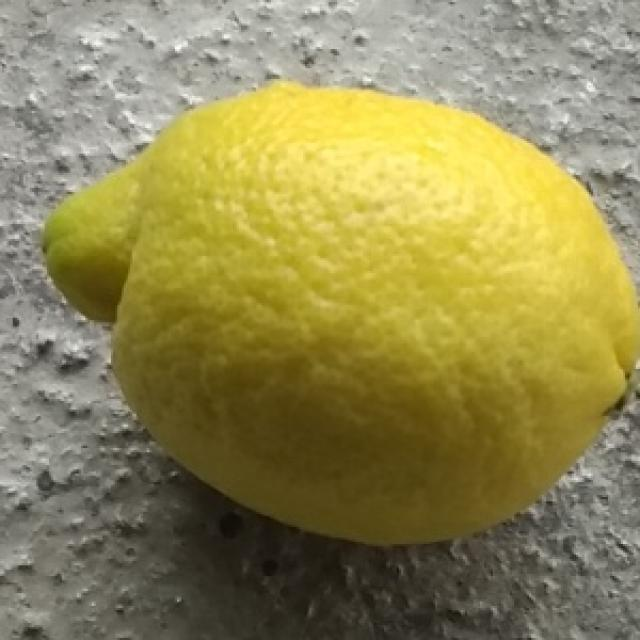Lemon: (41, 78, 640, 551)
